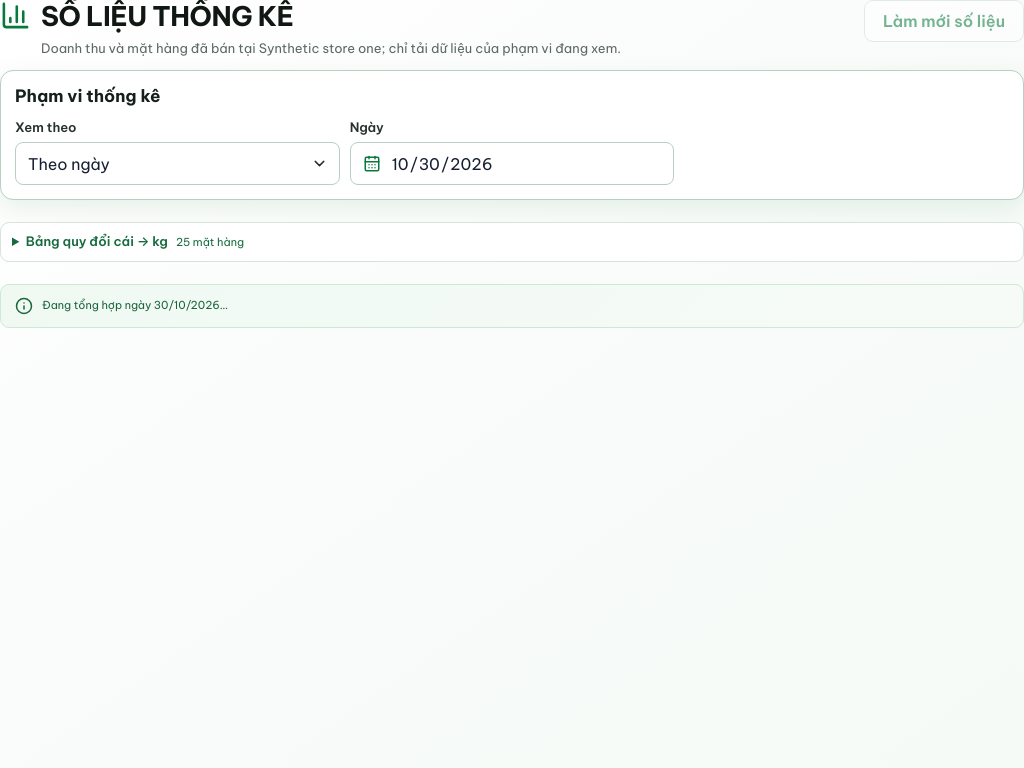
store historical shift selection › does not turn a failed date request into zero revenue or keep stale shift totals
In the date field named "Ngày thống kê": (526, 164) top-left (390, 143), bottom-right (661, 184), type "2026-09-06"
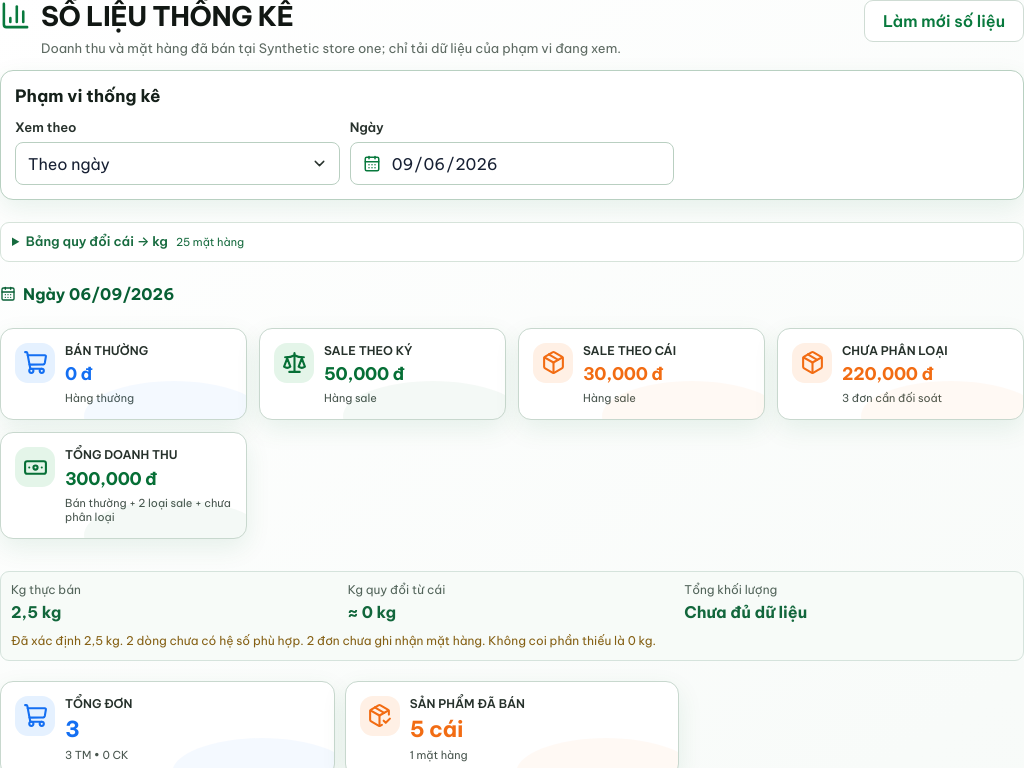
Expected: the element named "Doanh thu Ngày 06/09/2026" is shown, top-left (0, 328), bottom-right (1023, 539)
Select "Theo ca" in the dropdown named "Xem thống kê theo": (166, 164) top-left (28, 143), bottom-right (305, 184)
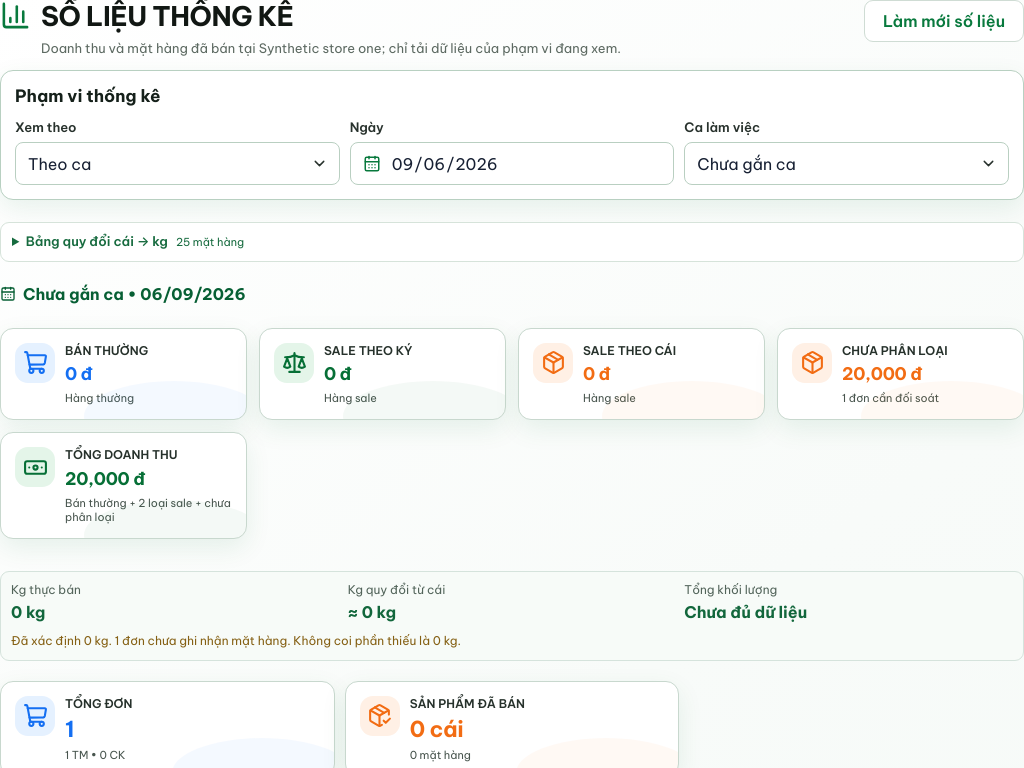
Expected: the dropdown named "Ca thống kê" is enabled
Select "Ca tối (17:00–22:00)" in the dropdown named "Ca thống kê": (836, 164) top-left (697, 143), bottom-right (974, 184)
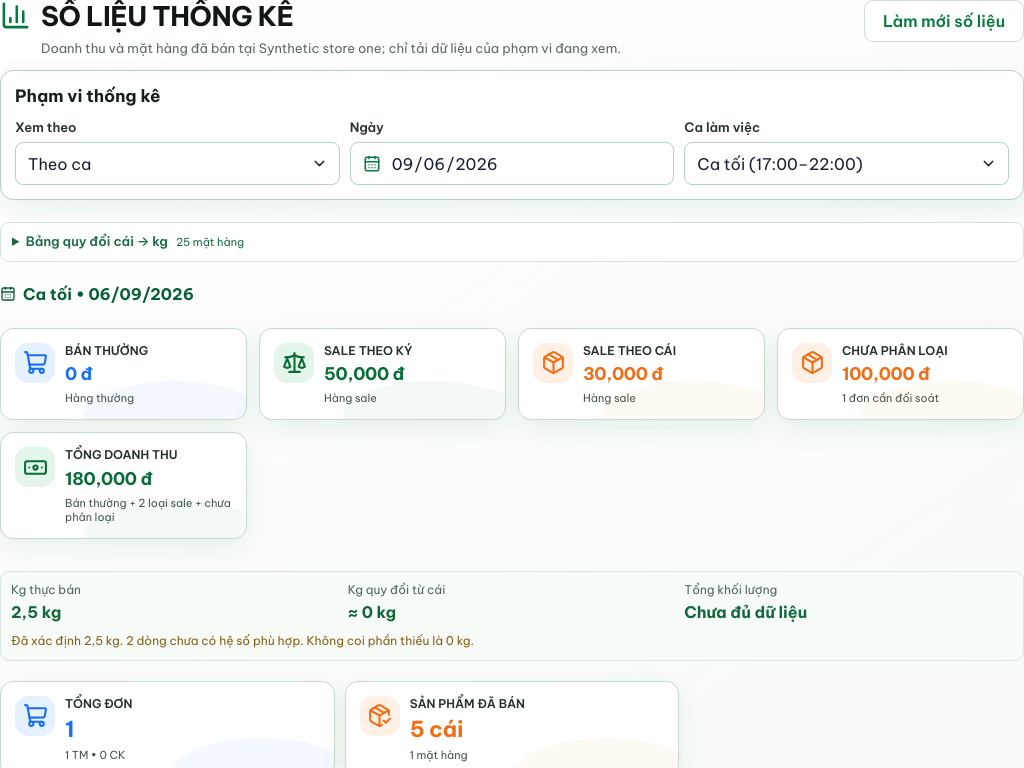
In the date field named "Ngày thống kê": (526, 164) top-left (390, 143), bottom-right (661, 184), type "2026-09-07"
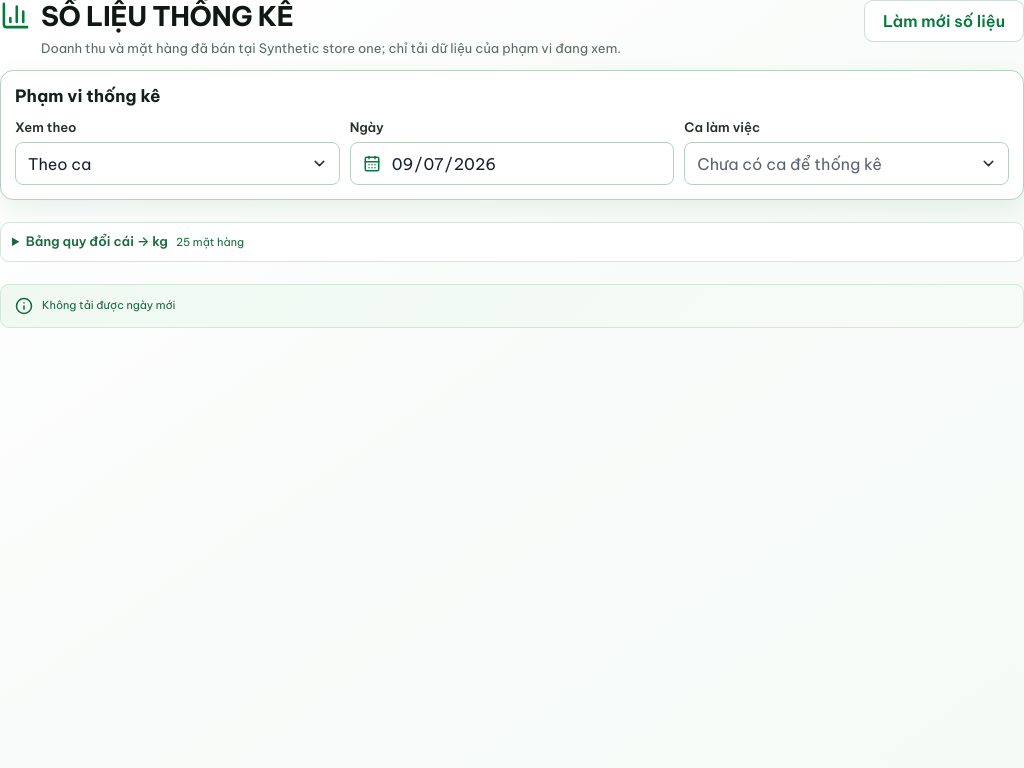
Expected: the text "Không tải được ngày mới" is shown, top-left (42, 296), bottom-right (176, 314)
Expected: the text "180,000 đ" is gone
Expected: the text "0 đ" is gone
